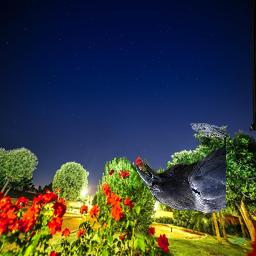Crow: (136, 123, 227, 213)
